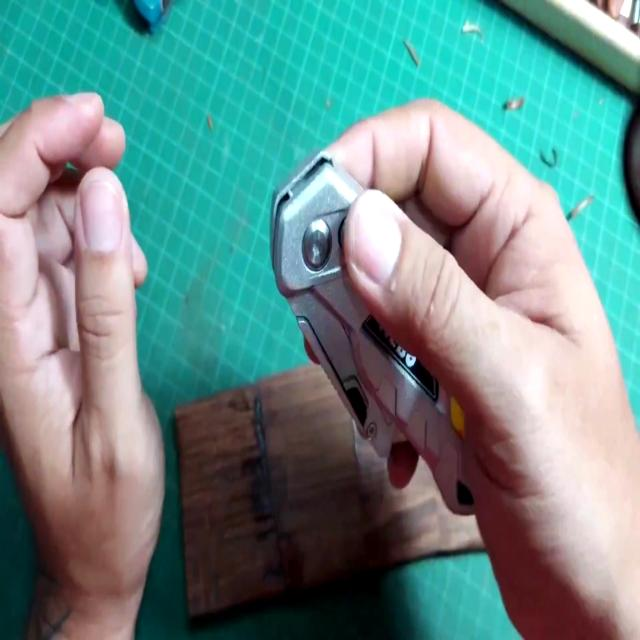cutter: (256, 55, 640, 588)
